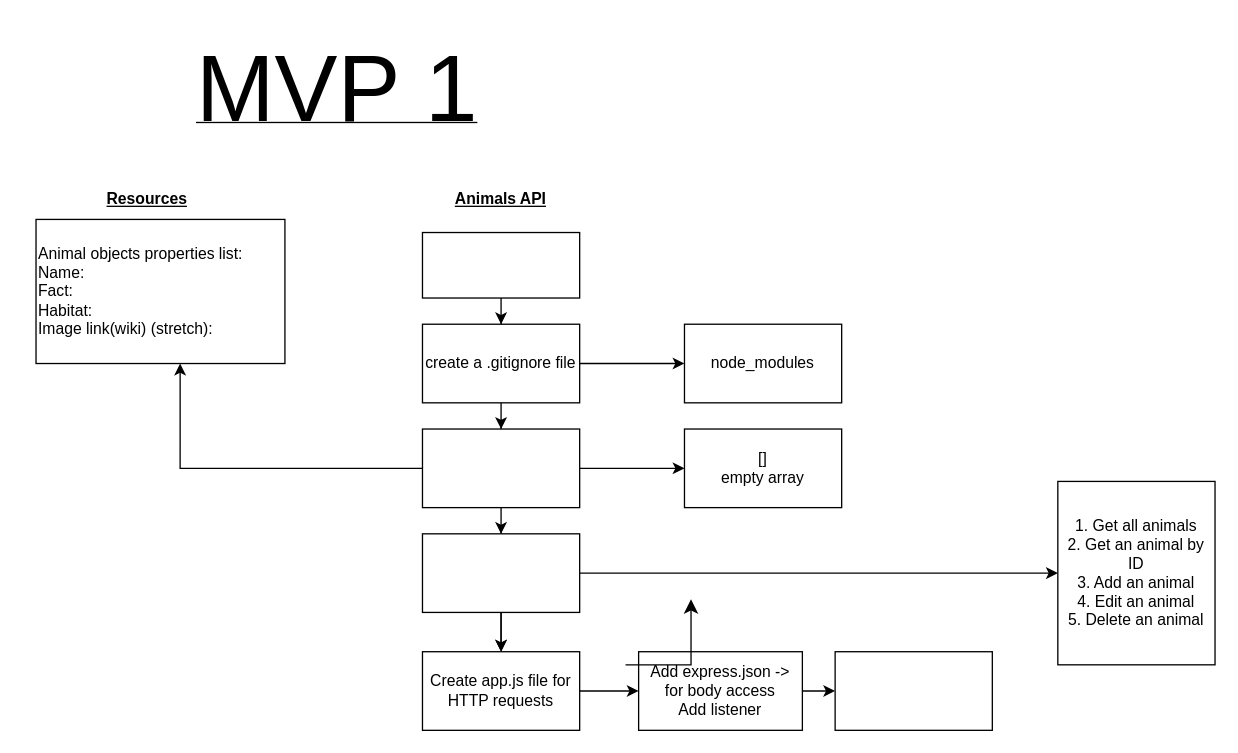
This 1238x753 diagram has some shape labels left out. The shapes that lost their labels are listed below. From the top down, each one's centre as x and y in pixels, then its label:
At pixel 500 264: "Install express Install nodemon Install uuidv4".
At pixel 500 468: "Empty animals.json".
At pixel 500 572: "Add JS file for CRUD functionality (animals.js)".
At pixel 913 690: "Import functions from animals.js".
